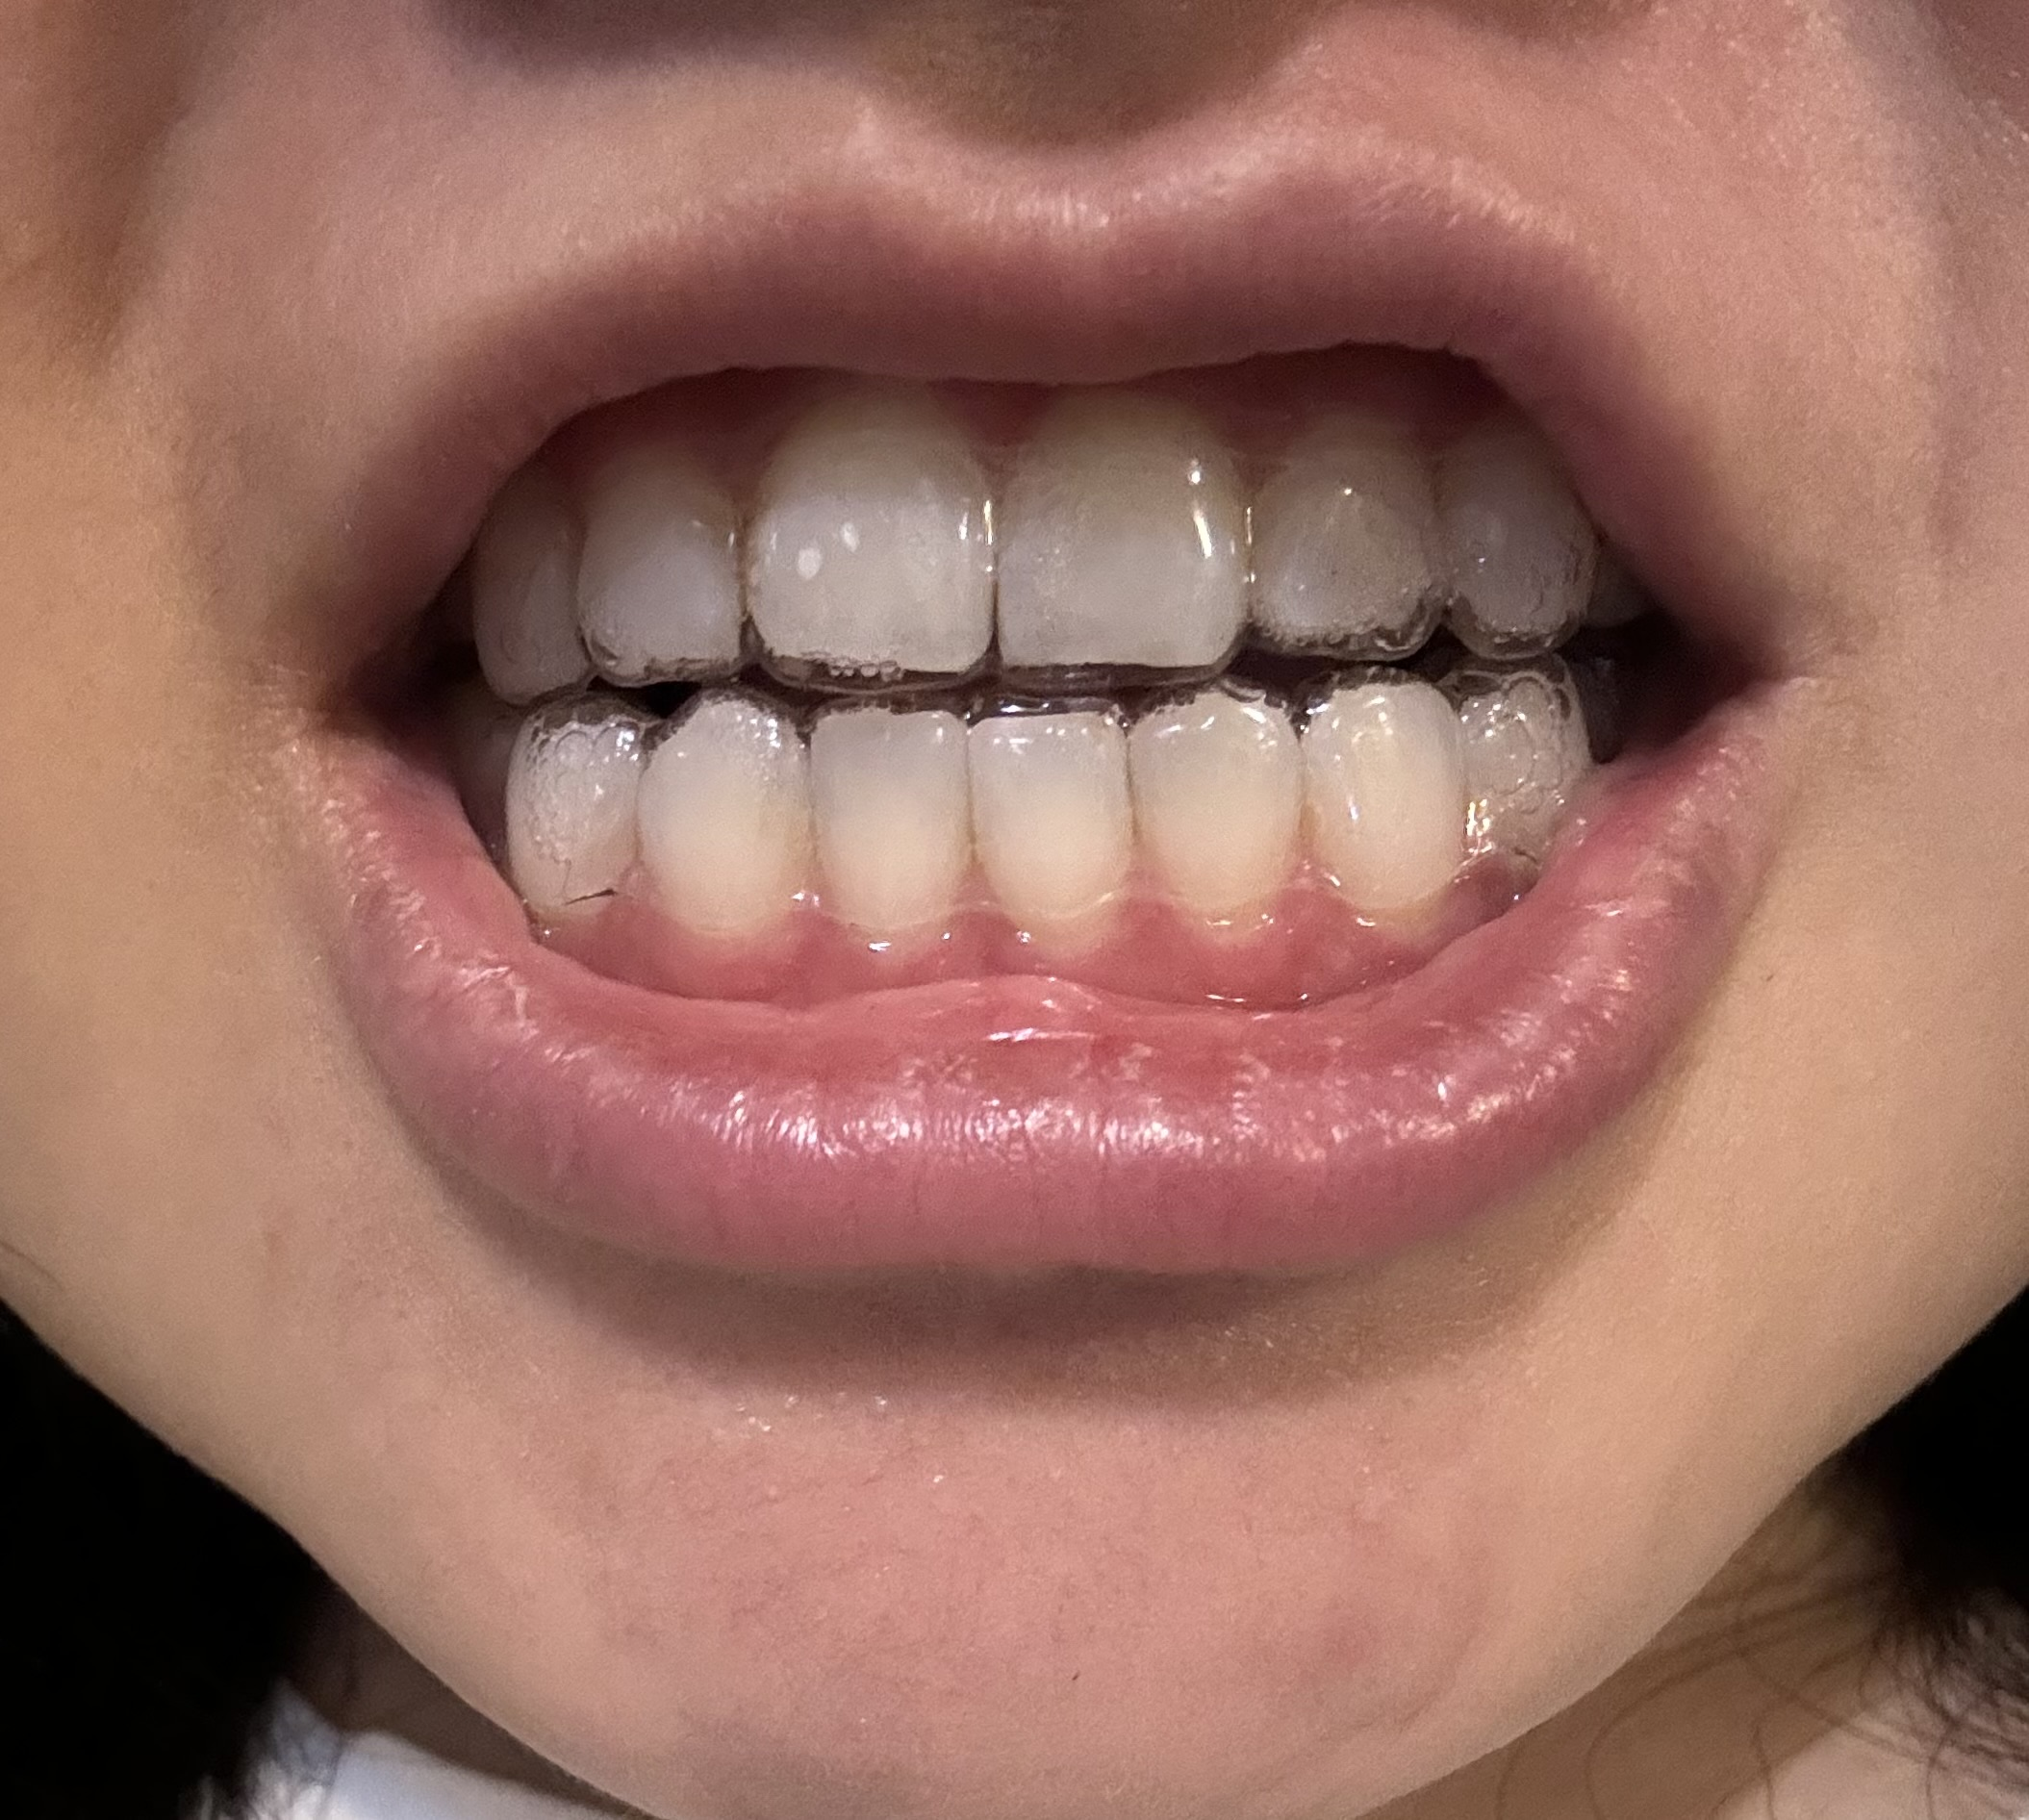teeth: (752, 397, 991, 676), (1005, 408, 1235, 668), (1258, 411, 1435, 641), (641, 694, 805, 933), (576, 450, 743, 680), (1135, 694, 1296, 924), (1318, 694, 1469, 910), (980, 711, 1123, 940), (815, 717, 963, 931), (1458, 432, 1586, 639), (501, 711, 638, 905), (478, 497, 588, 708), (1472, 687, 1581, 847)
